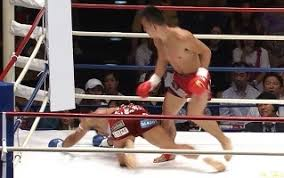10+: (1, 1, 284, 178)
down: (48, 96, 226, 176)
